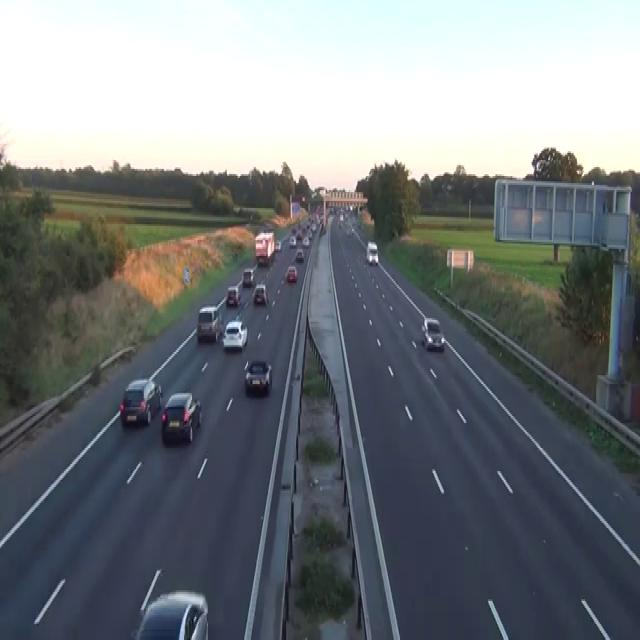Car: (132, 588, 208, 638), (161, 391, 202, 443), (119, 377, 163, 425), (244, 359, 272, 395), (196, 306, 222, 341), (421, 316, 445, 351), (222, 318, 247, 350), (252, 283, 267, 304), (226, 284, 240, 306), (366, 240, 378, 265), (242, 267, 254, 286), (285, 265, 297, 281), (295, 249, 304, 261), (289, 235, 296, 247), (274, 240, 281, 251), (302, 237, 309, 247), (320, 224, 326, 235), (310, 222, 316, 233), (233, 204, 240, 213), (446, 183, 453, 192), (346, 226, 353, 234), (329, 205, 334, 215), (338, 218, 343, 228), (296, 230, 302, 238), (291, 224, 296, 233), (339, 212, 343, 220)
Truck: (254, 229, 274, 265)
